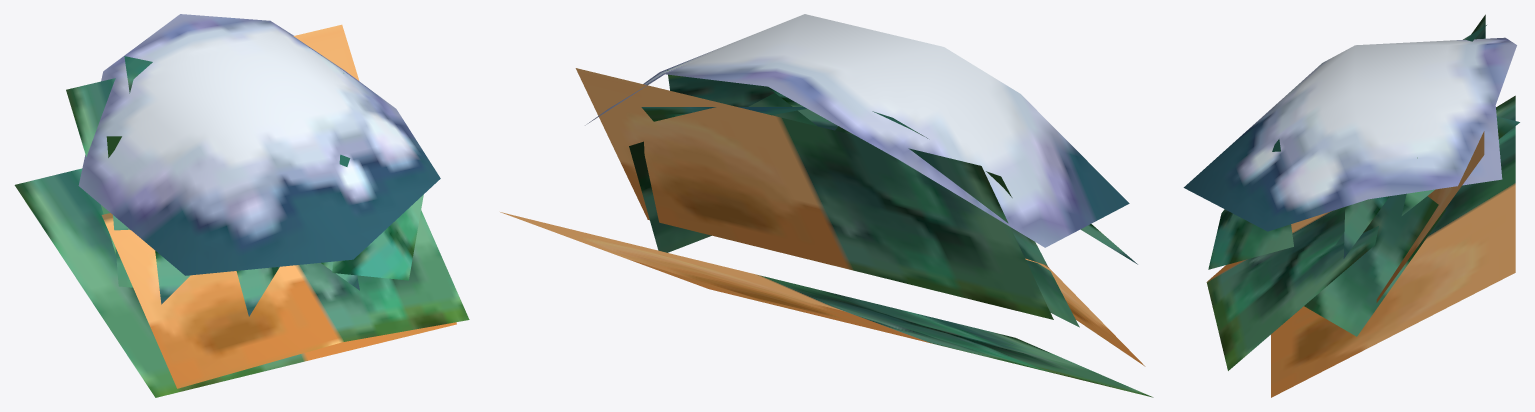
The model's file is fg_bushD_2_re.dae.
3 views of the same model, side by side, from view 1: azimuth 30°, elevation 25°; view 2: azimuth 150°, elevation 25°; view 3: azimuth 270°, elevation 25° (orthographic). The views are drawn at different scales.
Parts seen in each view (by area): view 1: fg_bushD_2_re; view 2: fg_bushD_2_re; view 3: fg_bushD_2_re.
Part boxes in pixels (bbox=[...]): fg_bushD_2_re: bbox=[14, 14, 469, 397]; fg_bushD_2_re: bbox=[500, 14, 1153, 397]; fg_bushD_2_re: bbox=[1183, 14, 1519, 397].
Size of the model in its own units: 47.83 by 34.27 by 38.41.
Materials: 1 (1 with a texture image).
